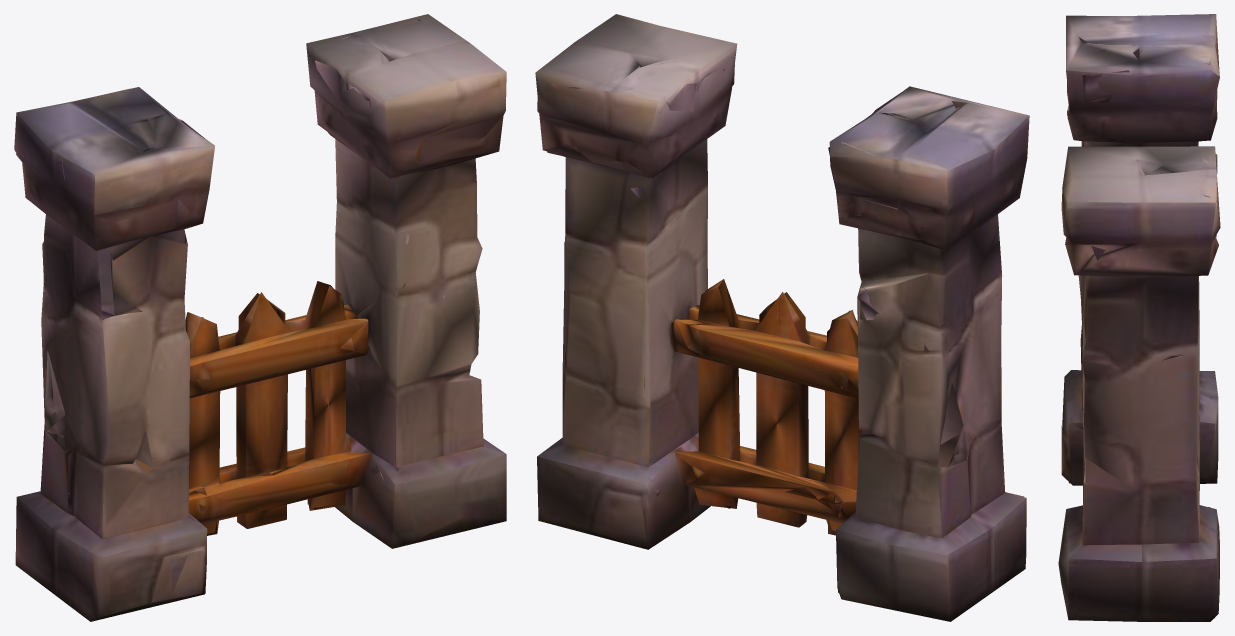
The model's file is sz-gate-posts.glb.
The picture shows the model from 3 angles, left to right: view 1: azimuth 30°, elevation 25°; view 2: azimuth 150°, elevation 25°; view 3: azimuth 270°, elevation 25°; orthographic projection. The views are drawn at different scales.
Visible parts, largest first — view 1: geometry_0; view 2: geometry_0; view 3: geometry_0.
Boxes of the visible parts, x1,y1,x2,y2 form: geometry_0: (14, 14, 506, 621); geometry_0: (535, 14, 1029, 621); geometry_0: (1058, 14, 1220, 621).
Size of the model in its own units: 0.9588 by 1 by 0.3453.
Materials: 1 (1 with a texture image).
